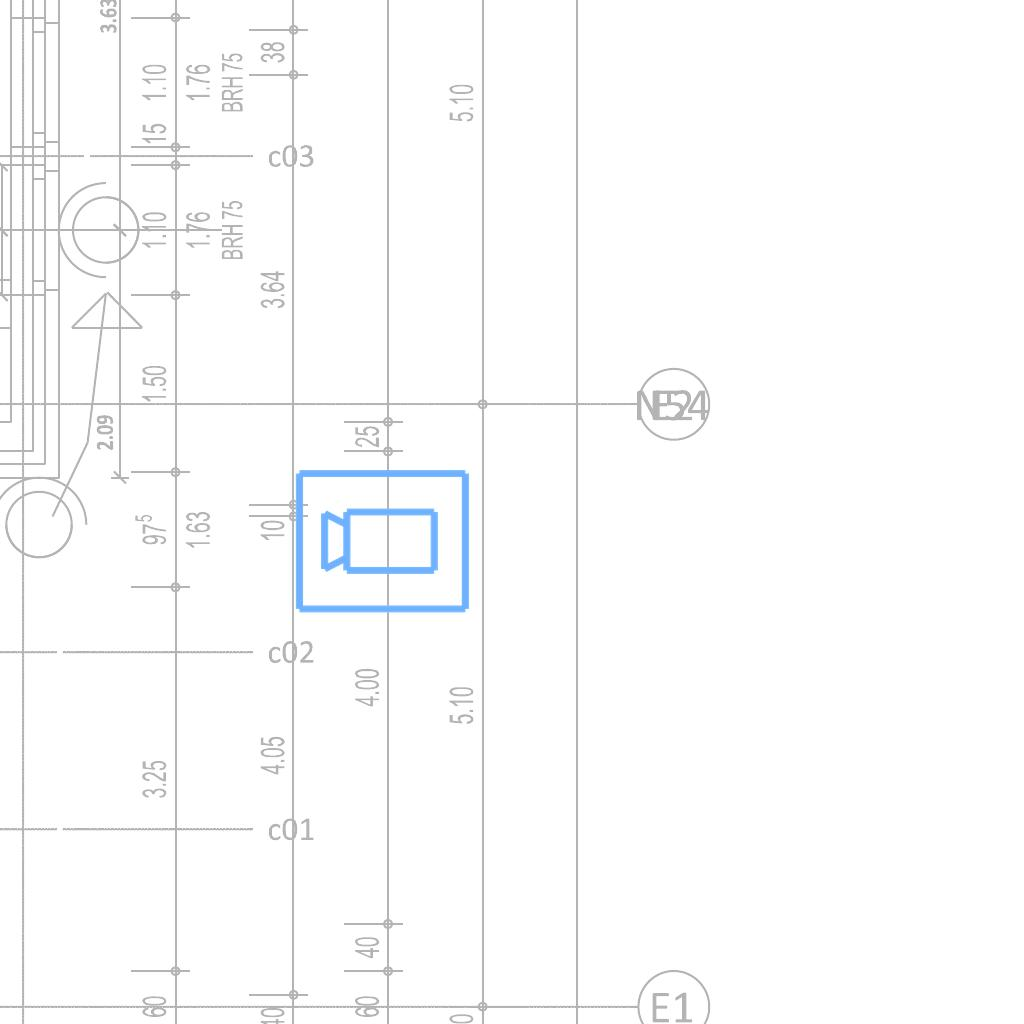KFO_Kamera_mit_Festobjektiv: (292, 463, 474, 617)
